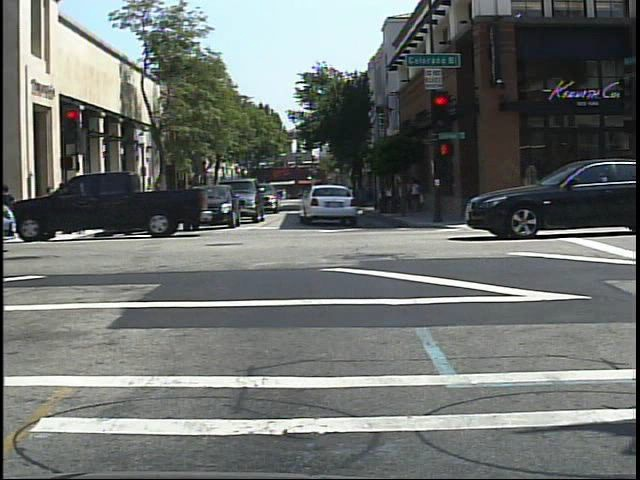person: (143, 182, 161, 218), (91, 187, 106, 228), (148, 180, 165, 216)
